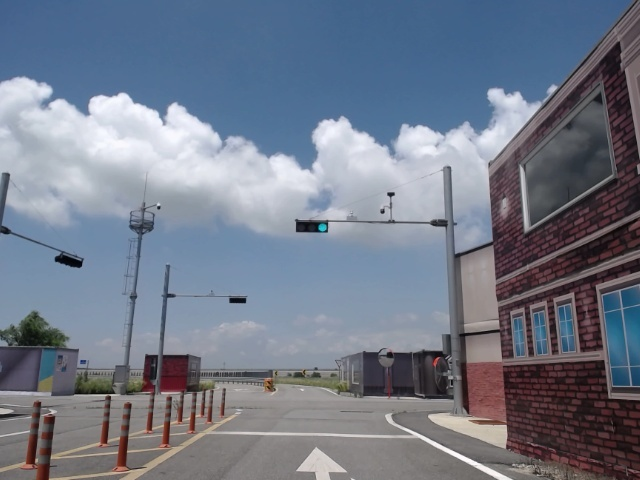green_3: (297, 221, 329, 232)
